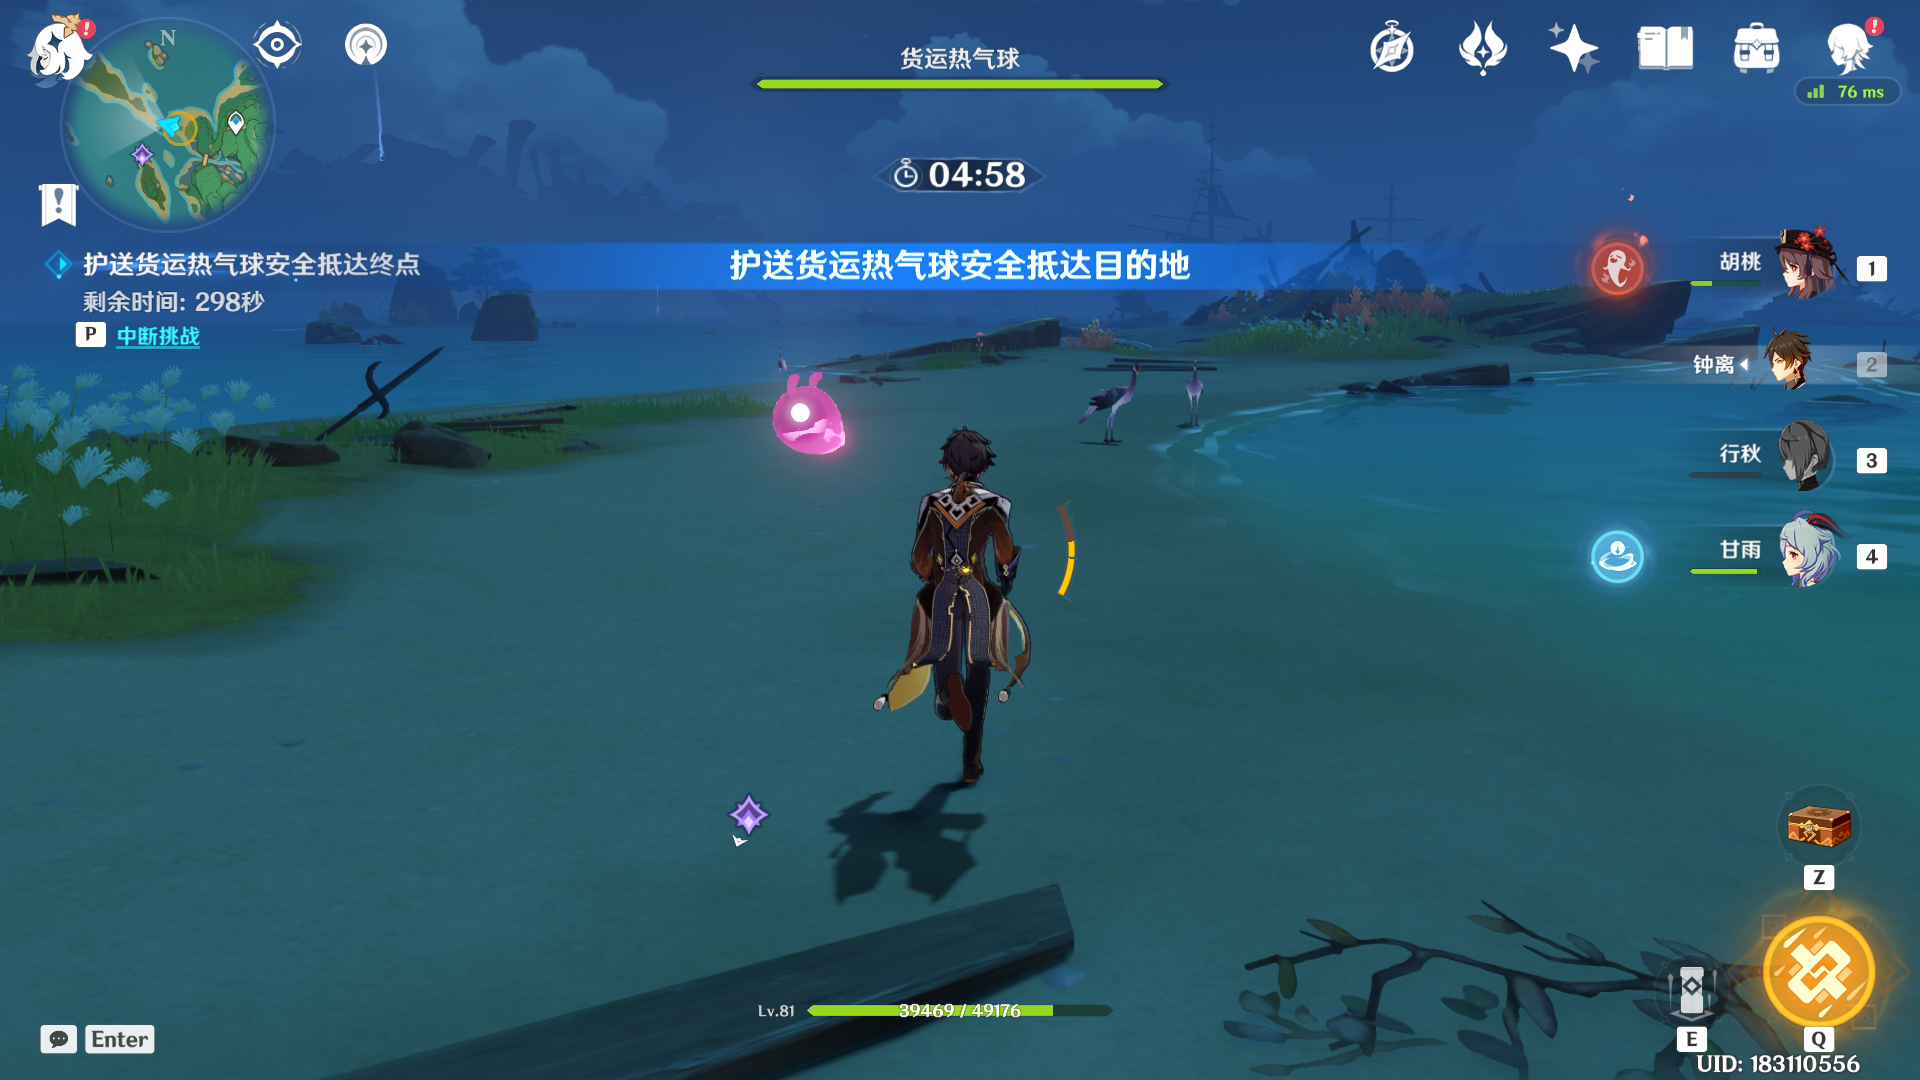character: (815, 392, 1076, 824)
